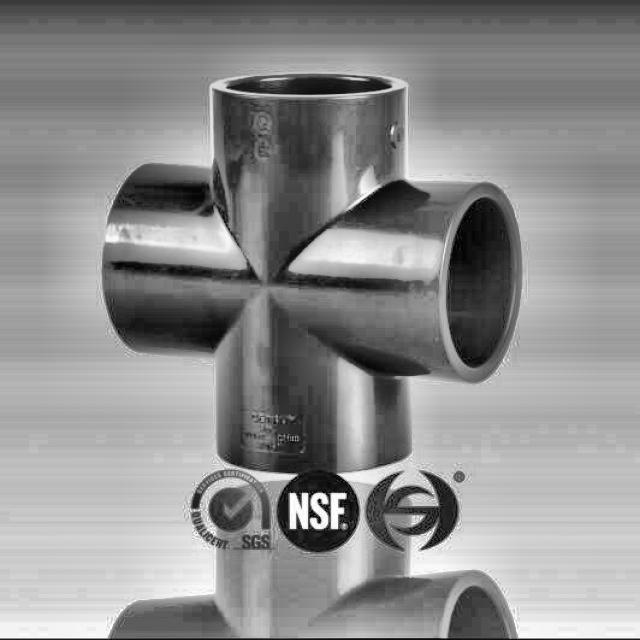EQUALCROSS: (102, 72, 527, 633)
